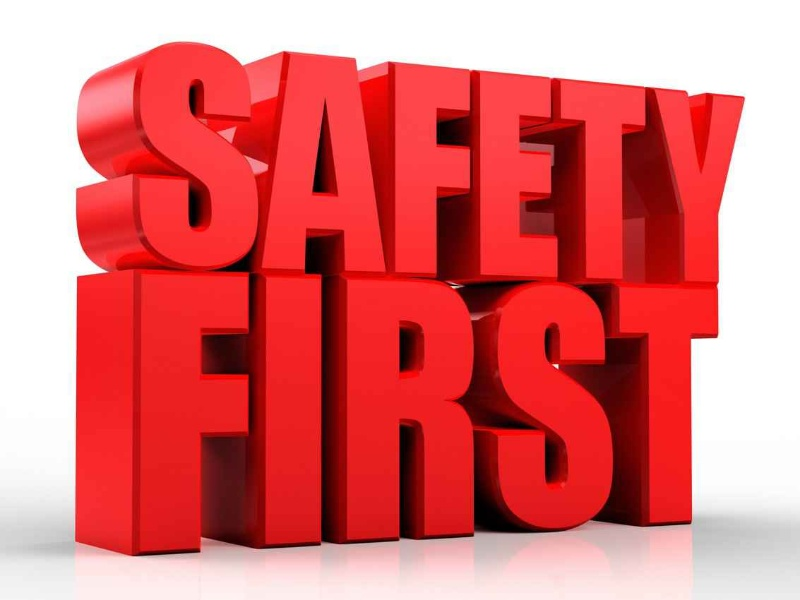letter: (47, 258, 256, 558), (49, 30, 276, 272), (325, 264, 487, 554), (477, 265, 621, 541), (244, 30, 385, 289), (601, 277, 734, 536), (233, 261, 344, 562), (357, 25, 476, 292), (548, 65, 653, 298), (641, 59, 746, 289), (465, 54, 565, 287)
